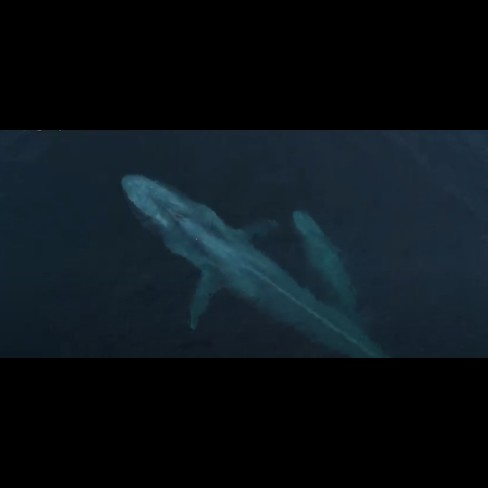bluewhale: (113, 168, 392, 357), (288, 204, 374, 331)
